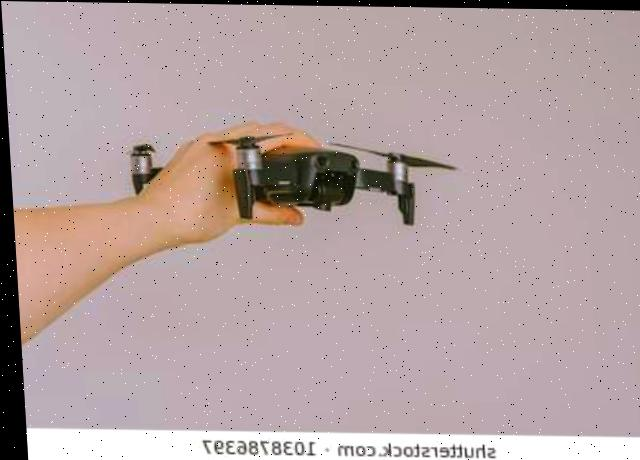drone: (95, 111, 456, 253)
